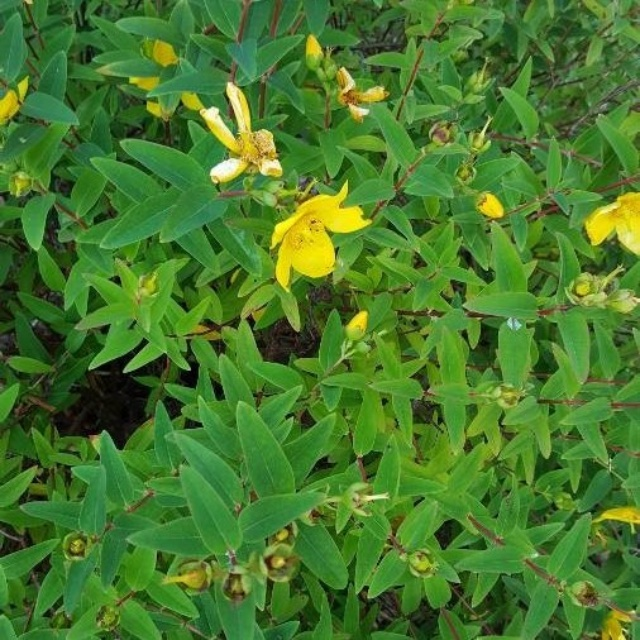obstacle: (81, 73, 597, 602)
